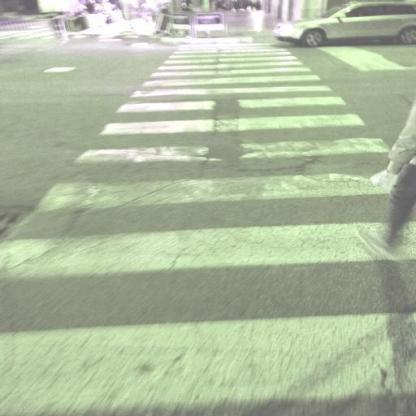crosswalk: (0, 166, 415, 282), (90, 94, 374, 138)
